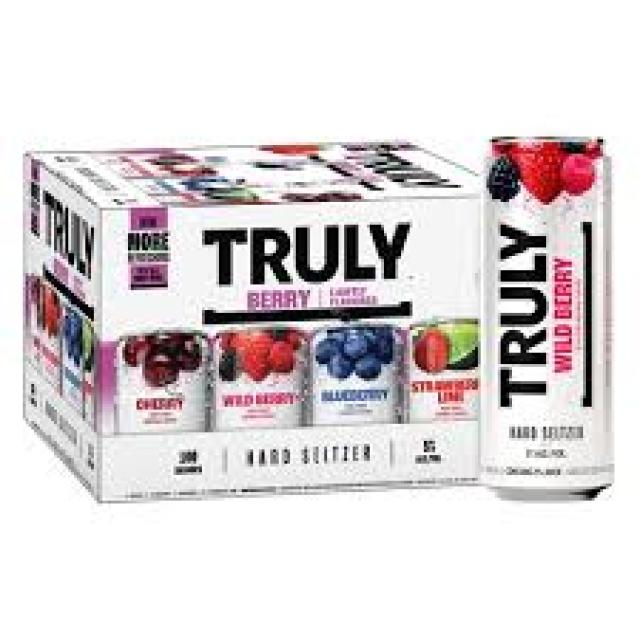Cans: (475, 125, 629, 509)
